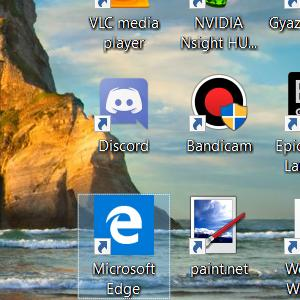edge: (94, 195, 155, 256)
